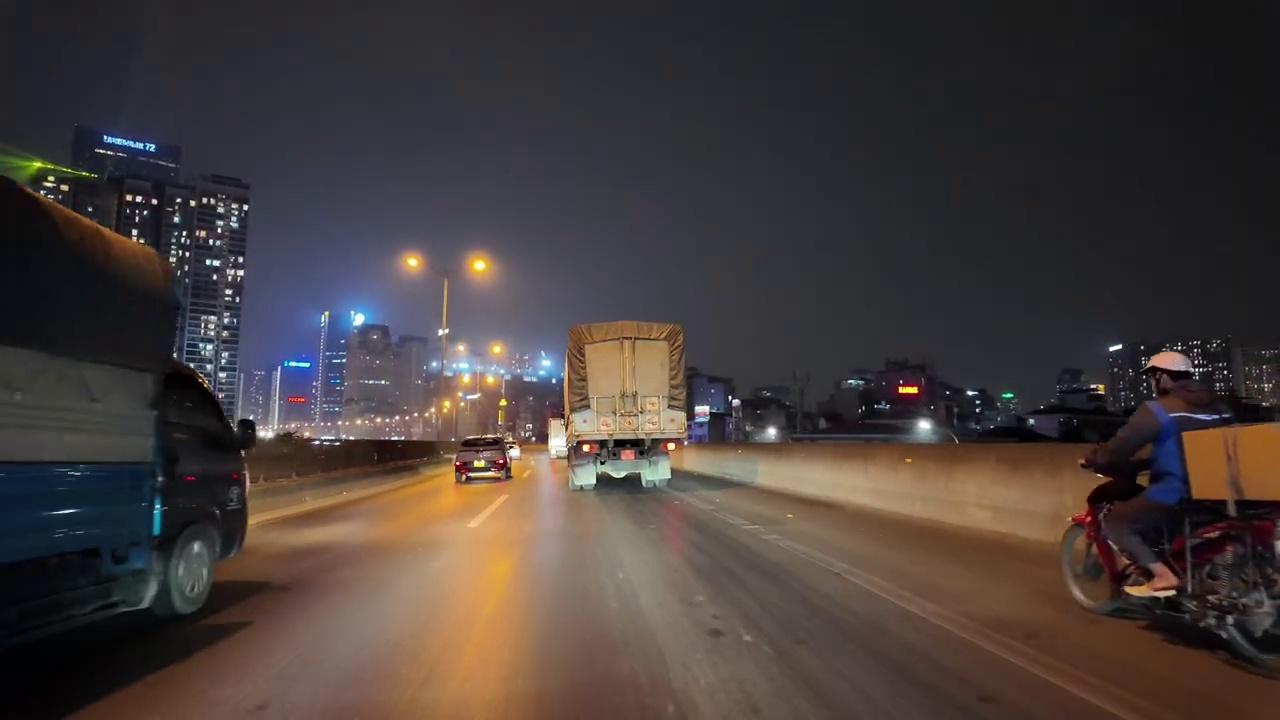acesa: (464, 251, 495, 281), (398, 248, 427, 276), (486, 340, 507, 360)
